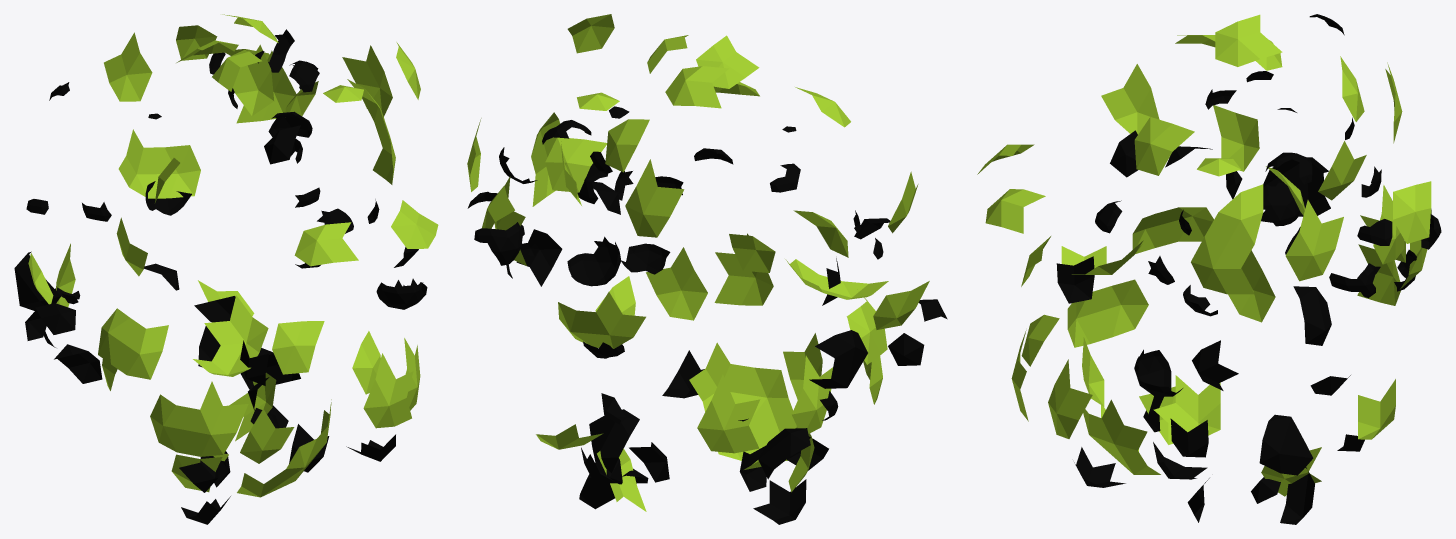
Rendered from explode.f0006.glb.
3 renders of one model, left to right at view 1: azimuth 30°, elevation 25°; view 2: azimuth 150°, elevation 25°; view 3: azimuth 270°, elevation 25°, orthographic. The views are drawn at different scales.
Parts seen in each view (by area): view 1: Body.001; view 2: Body.001; view 3: Body.001.
Boxes of the visible parts, x1=… form: Body.001: x1=14, y1=14, x2=438, y2=524; Body.001: x1=467, y1=14, x2=947, y2=524; Body.001: x1=977, y1=14, x2=1441, y2=524.
Size of the model in its own units: 5.39 by 6.06 by 5.19.
1 material, 1 textured.
